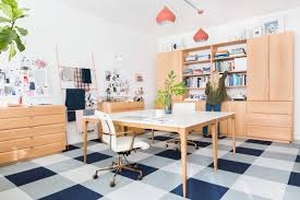chair: (93, 110, 143, 188)
